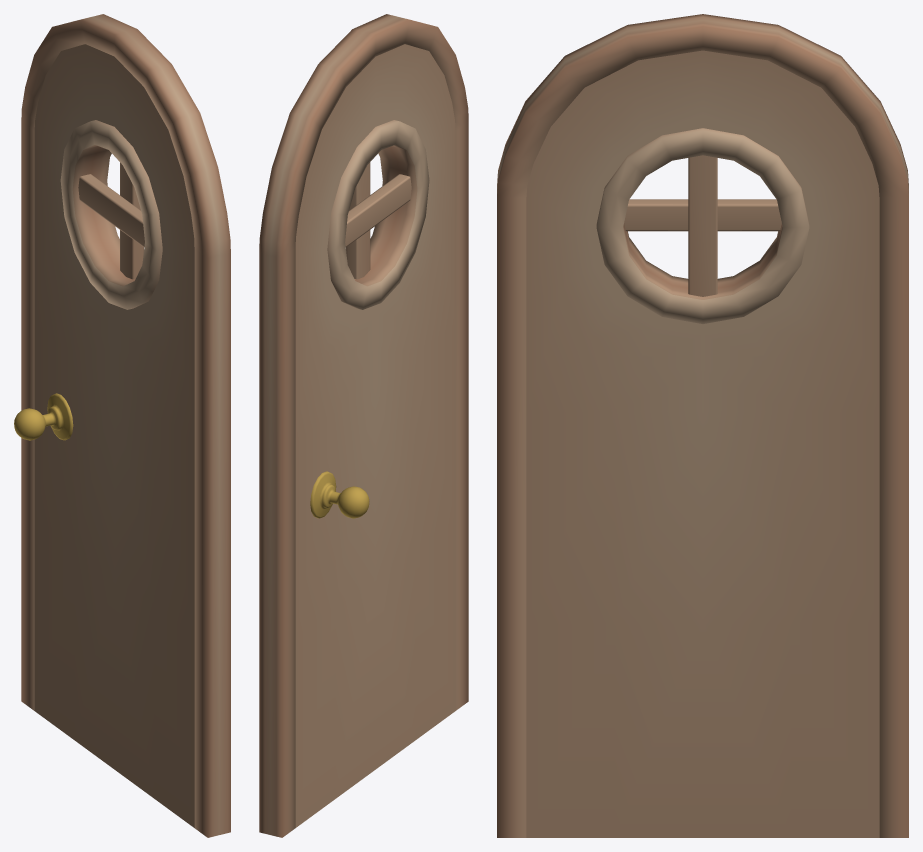
The model's file is Door.fbx.
3 views of the same model, side by side, from view 1: azimuth 30°, elevation 25°; view 2: azimuth 150°, elevation 25°; view 3: azimuth 270°, elevation 25° (orthographic). The views are drawn at different scales.
Parts seen in each view (by area): view 1: Dor; view 2: Dor; view 3: Dor.
Part boxes in pixels (bbox=[...]): Dor: bbox=[14, 14, 230, 837]; Dor: bbox=[259, 14, 468, 837]; Dor: bbox=[497, 14, 908, 837].
Bounding box in the file's own units: 31.94 × 304 × 140.
